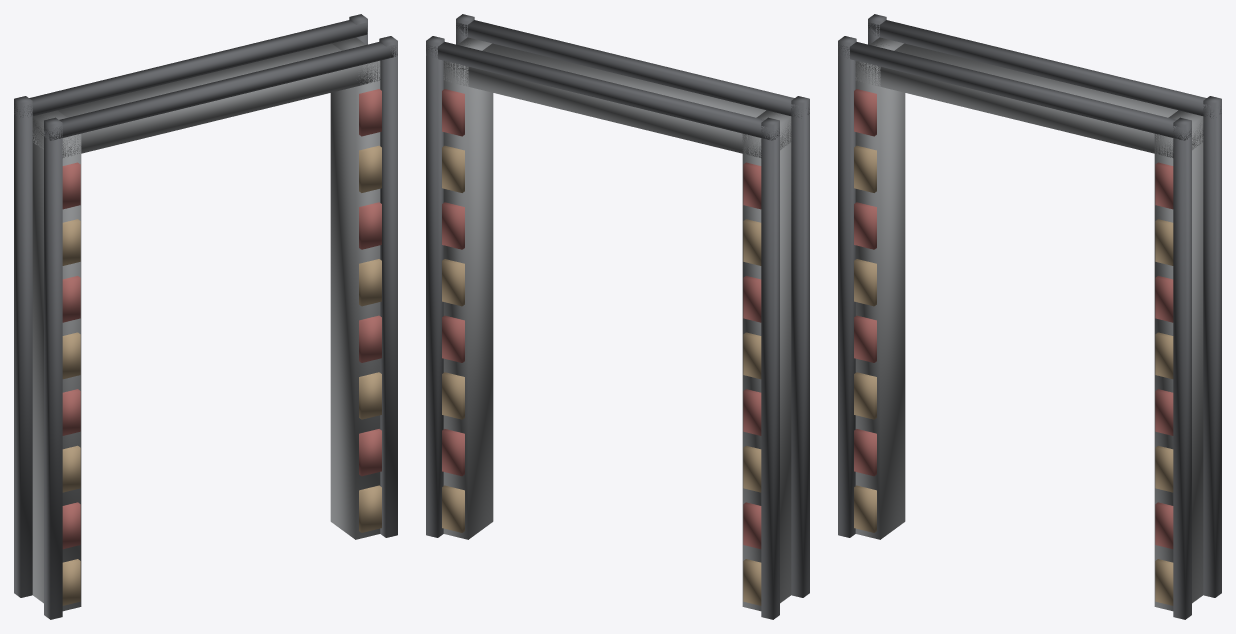
The model's file is doorway_brick_return_w152_h240_d24.glb.
3 views of the same model, side by side, from view 1: azimuth 30°, elevation 25°; view 2: azimuth 150°, elevation 25°; view 3: azimuth 330°, elevation 25° (orthographic).
Visible parts, largest first — view 1: world; view 2: world; view 3: world.
Part boxes in pixels (x1=…): world: x1=14, y1=14, x2=397, y2=619; world: x1=426, y1=14, x2=809, y2=619; world: x1=838, y1=14, x2=1221, y2=619.
Size of the model in its own units: 1.92 by 2.62 by 0.3516.
